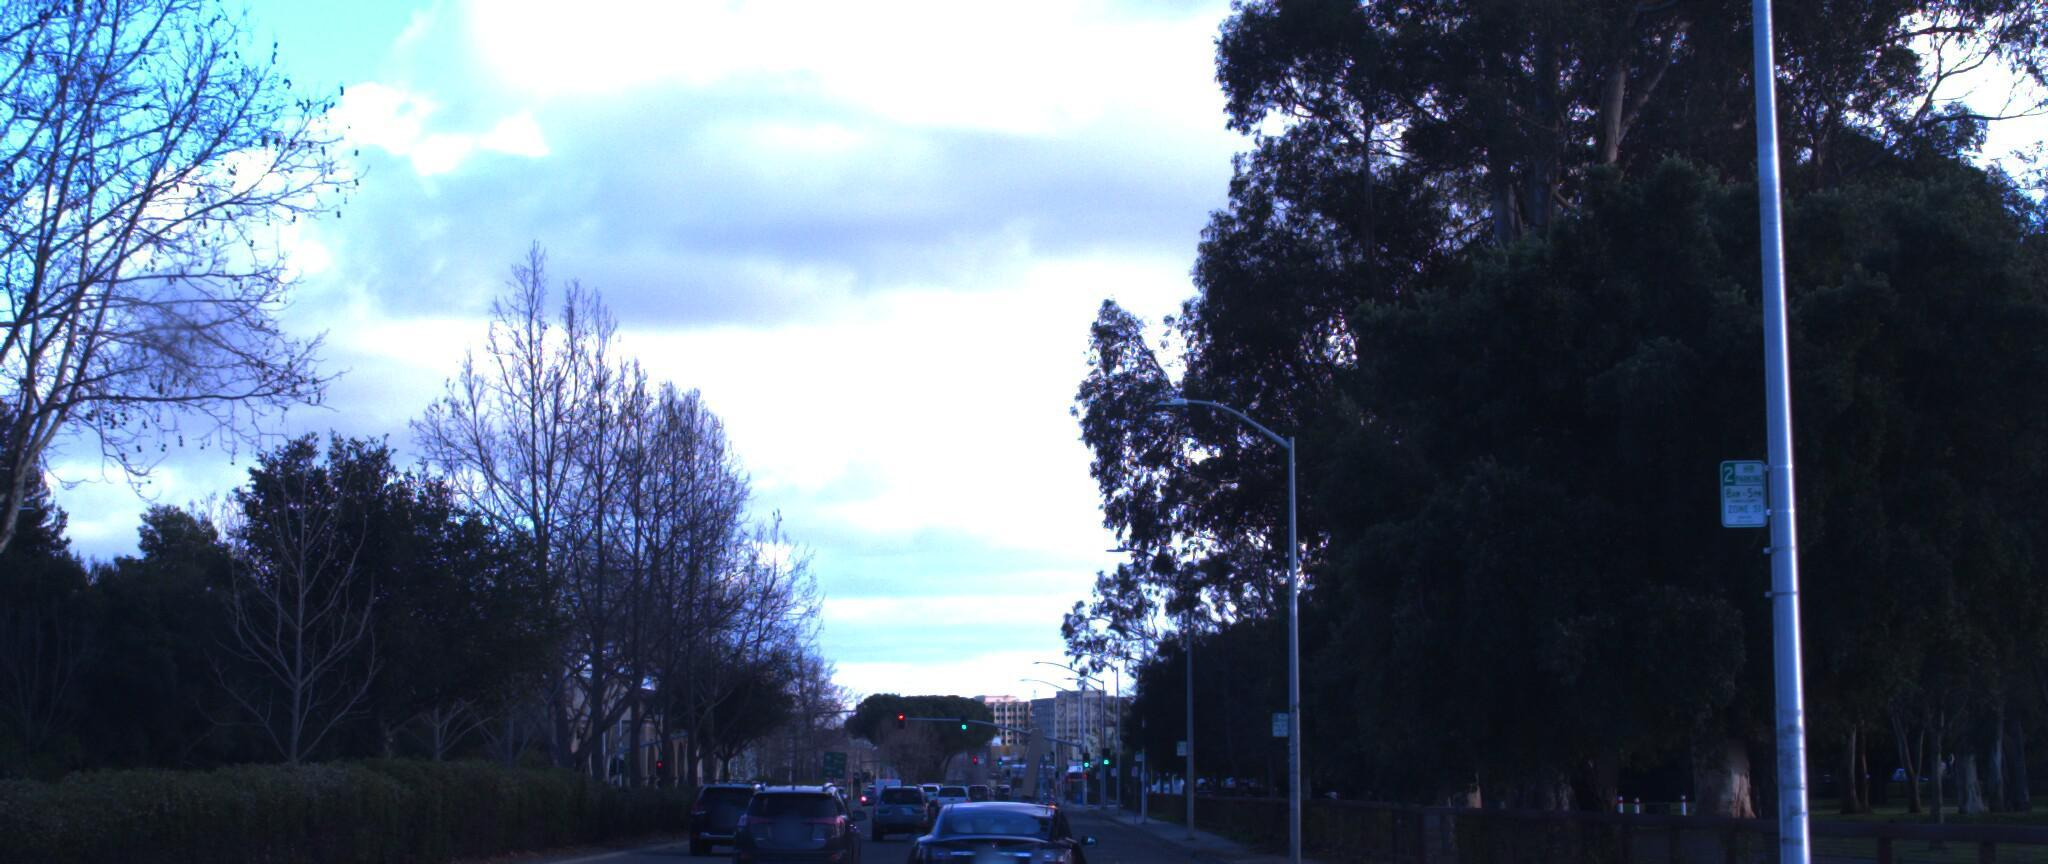car: (893, 777, 1080, 864), (729, 761, 862, 864), (695, 765, 792, 834)
